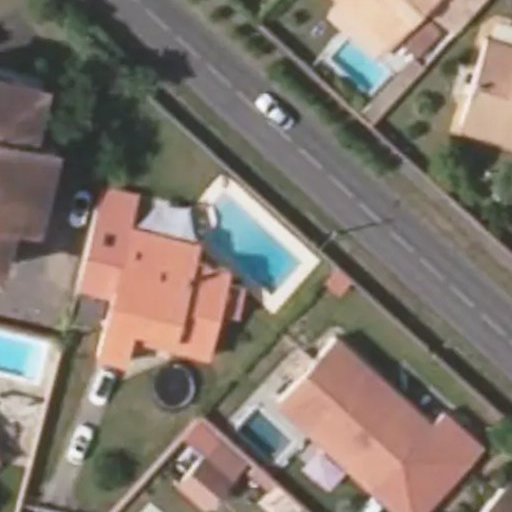pool: (186, 223, 306, 260)
